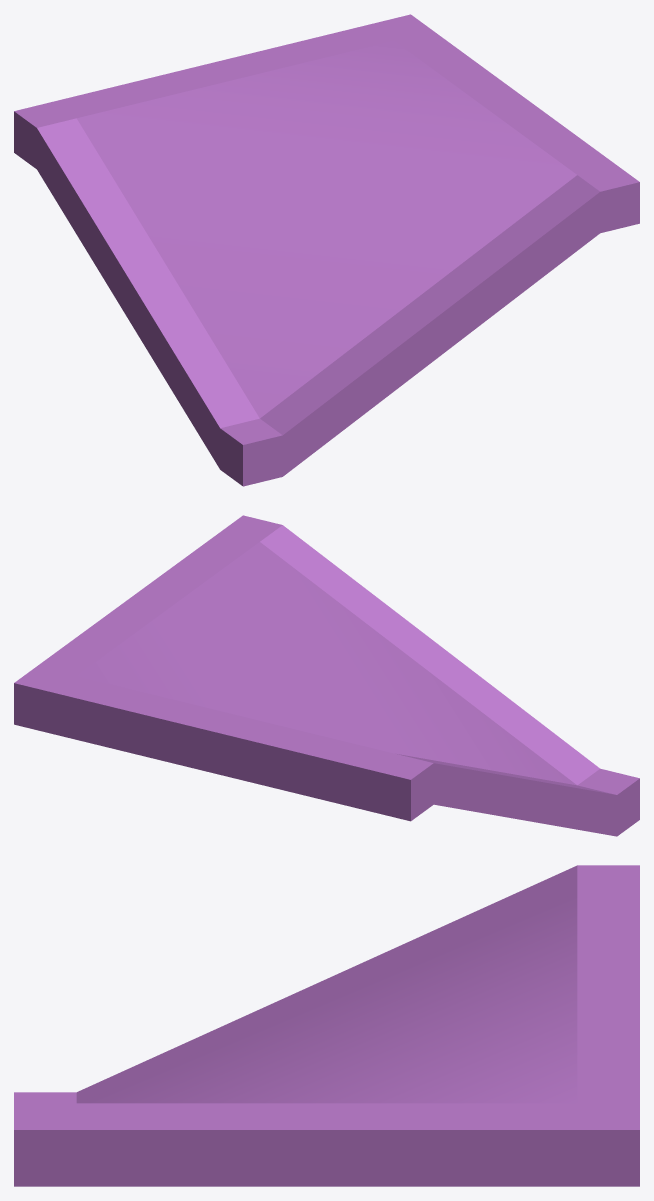
The model's file is Platform_Reverse_Corner.fbx.
The picture shows the model from 3 angles, top to bottom: view 1: azimuth 30°, elevation 25°; view 2: azimuth 150°, elevation 25°; view 3: azimuth 270°, elevation 25°; orthographic projection. The views are drawn at different scales.
Visible parts, largest first — view 1: Platform_Reverse_Corner; view 2: Platform_Reverse_Corner; view 3: Platform_Reverse_Corner.
Part boxes in pixels (x1,y1,x2,y2): Platform_Reverse_Corner: (14, 14, 639, 486); Platform_Reverse_Corner: (14, 515, 639, 836); Platform_Reverse_Corner: (14, 865, 639, 1186).
Bounding box in the file's own units: 1000 × 500 × 1000.
